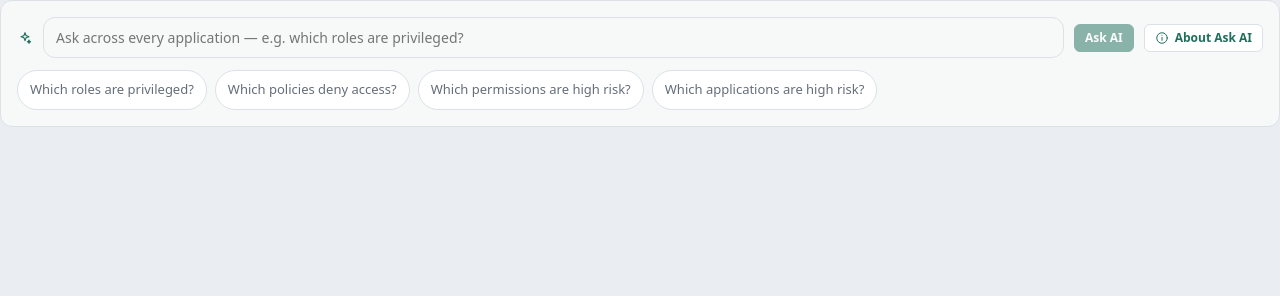
Test: AccessSearch tree rendering › renders a nested two-level group (cross-tab) with sub-groups and proportion bars
Click the button with class "access-search-chip" showing "Which roles are privileged?".
click(112, 90)  # box [17,70,207,110]
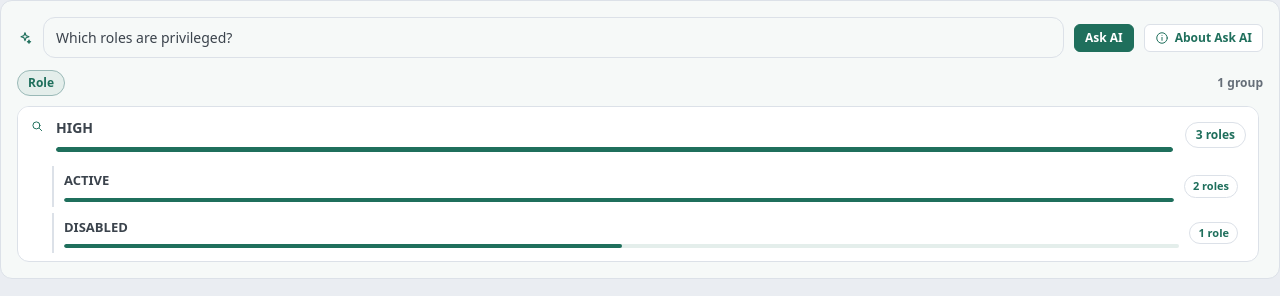
Expected: the list with class "access-search-subgroups" is shown, [18,162,1258,261]
Expected: the list with class "access-search-subgroups" shows "ACTIVE", [64,171,109,189]
Expected: the list with class "access-search-subgroups" shows "DISABLED", [64,218,128,236]
